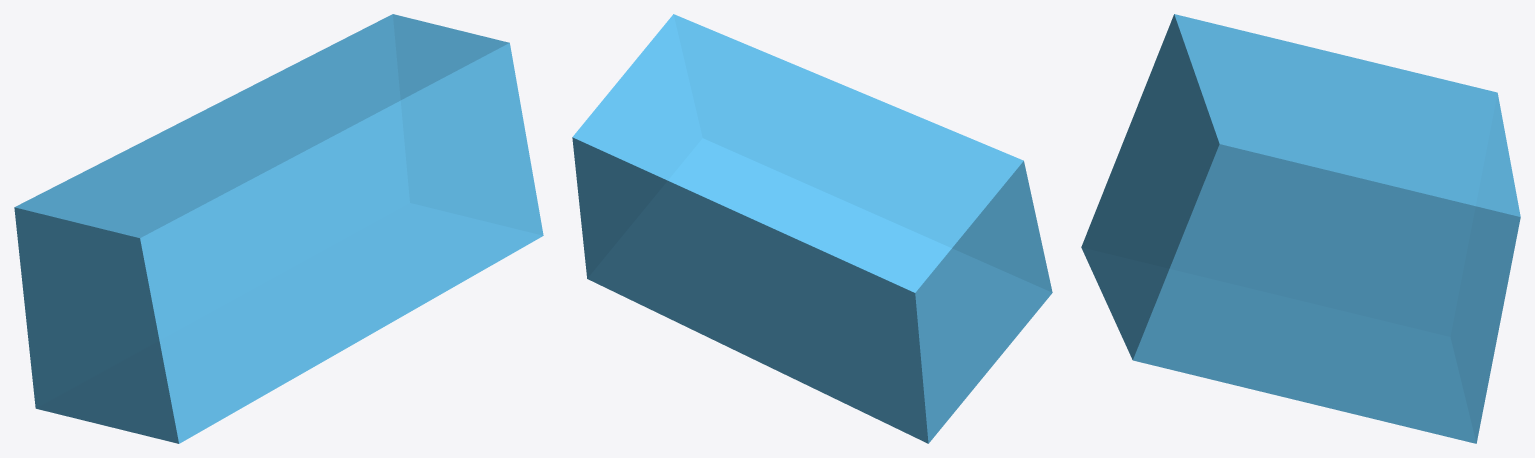
The model's file is Event_421278790_HErechit_28.fbx.
3 renders of one model, left to right at view 1: azimuth 30°, elevation 25°; view 2: azimuth 150°, elevation 25°; view 3: azimuth 270°, elevation 25°, orthographic. The views are drawn at different scales.
Parts seen in each view (by area): view 1: Model; view 2: Model; view 3: Model.
Boxes of the visible parts, x1,y1,x2,y2 form: Model: (14,14,543,443); Model: (572,14,1052,443); Model: (1081,14,1520,443).
Bounding box in the file's own units: 0.8233 × 0.6856 × 0.6287.
